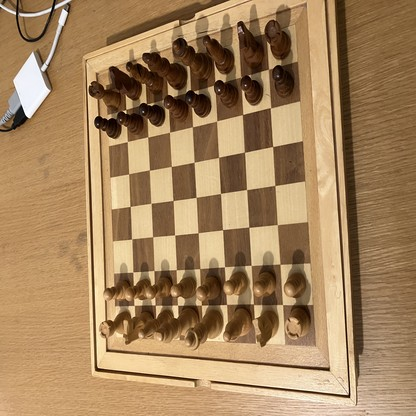bishop_black: (204, 35, 235, 73), (127, 61, 162, 92)
bishop_white: (138, 311, 174, 340), (224, 307, 252, 341)
king_black: (144, 54, 187, 90)
king_white: (154, 311, 199, 340)
knight_black: (237, 20, 265, 66), (109, 65, 142, 98)
knight_white: (123, 313, 153, 343), (255, 310, 280, 345)
pawn_black: (241, 75, 264, 105), (163, 94, 187, 120), (187, 91, 211, 116), (275, 65, 294, 96), (216, 79, 237, 107), (95, 115, 122, 136), (141, 103, 165, 126), (118, 112, 142, 134)
pawn_white: (196, 276, 223, 299), (145, 277, 171, 299), (285, 271, 306, 297), (125, 279, 151, 300), (172, 277, 197, 298), (253, 273, 276, 295), (225, 273, 248, 295), (104, 282, 129, 301)
queen_black: (173, 39, 211, 77)
queen_white: (180, 311, 224, 349)
rock_black: (264, 20, 292, 58), (89, 82, 121, 110)
rock_white: (288, 304, 311, 337), (100, 312, 130, 337)
